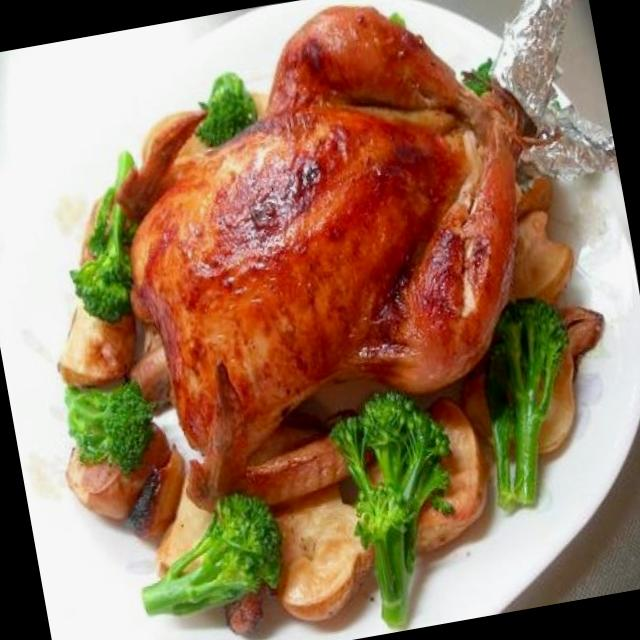Chicken: (66, 0, 564, 471)
